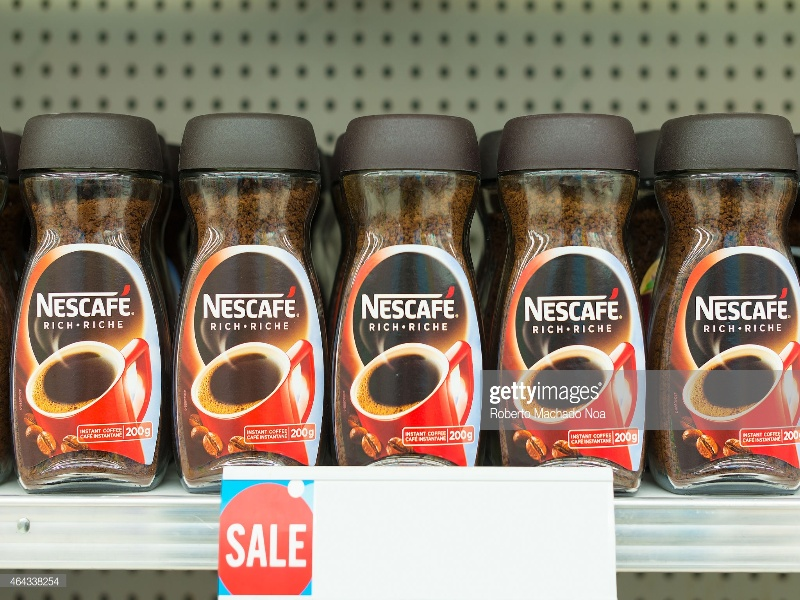nescafe-classic/gold-med: (2, 115, 175, 503), (483, 100, 649, 464), (648, 104, 799, 504), (176, 107, 330, 492), (330, 107, 481, 471)
